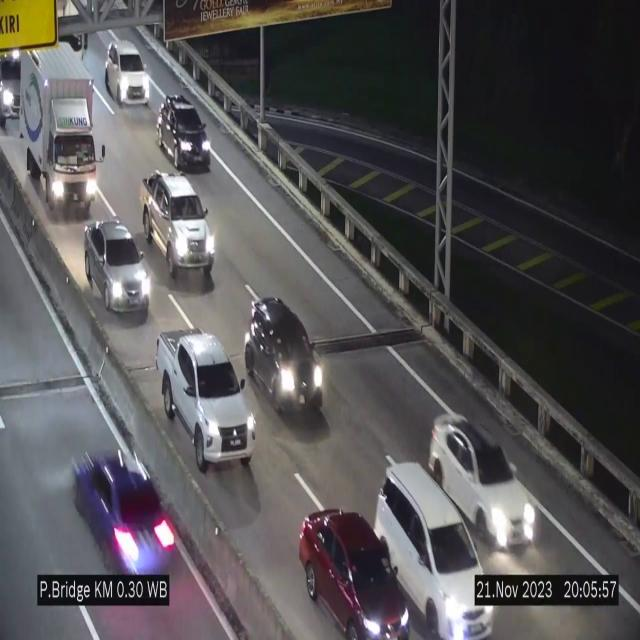Car: (375, 463, 492, 640), (69, 441, 195, 596), (296, 505, 412, 640), (427, 414, 535, 549), (156, 331, 254, 471), (242, 286, 326, 426), (140, 172, 215, 282), (84, 218, 150, 314), (158, 93, 210, 171), (104, 40, 151, 110)
Truck: (12, 34, 100, 220)
